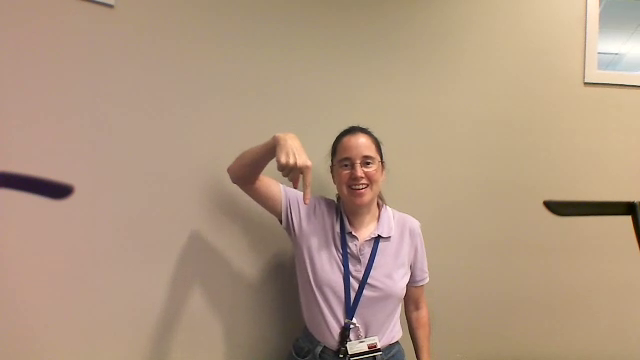down: (270, 125, 320, 218)
